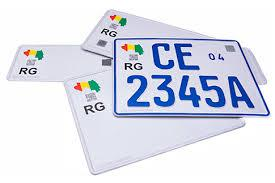2: (122, 73, 151, 108)
3: (150, 73, 177, 107)
4: (177, 74, 202, 107)
5: (199, 74, 228, 107)
A: (227, 75, 256, 109)
C: (151, 42, 175, 69)
E: (173, 43, 199, 71)
